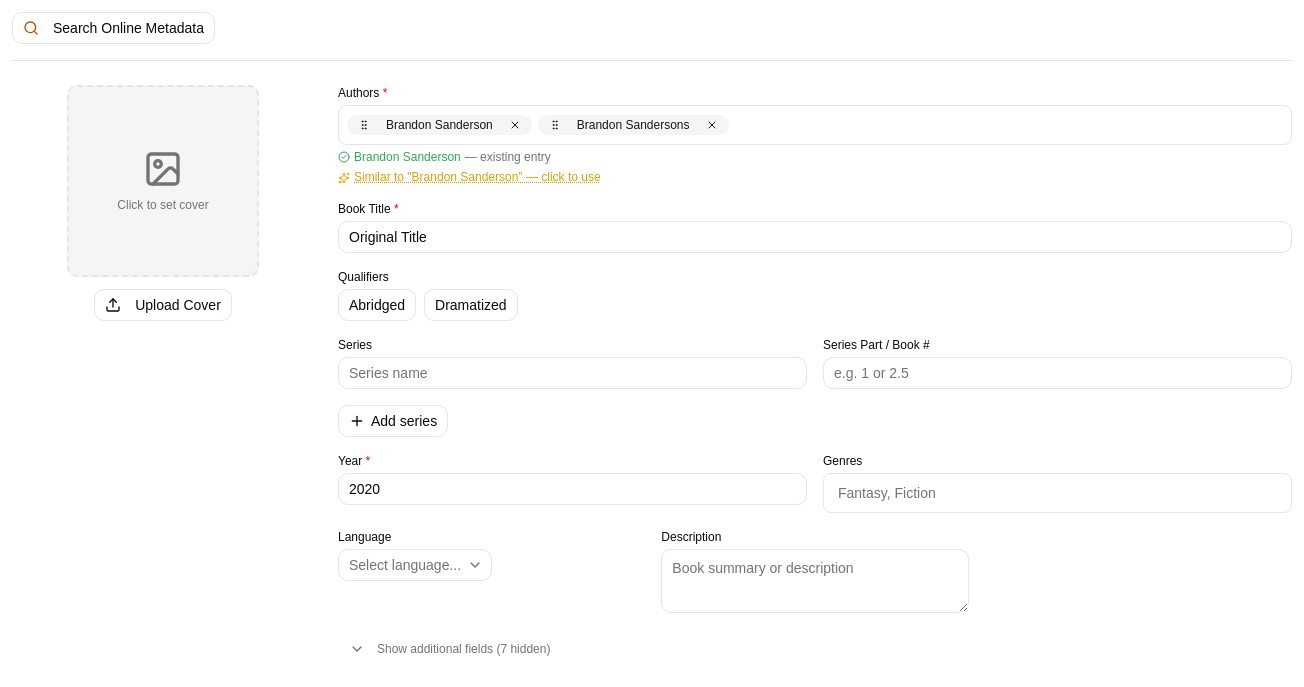
Test case: BookEditForm › clicking a hint merges into an existing exact-match entry instead of creating a duplicate
Click the button "Similar to \"Brandon Sanderson\" — click to use". click: (469, 177)
box: [338,169,601,185]
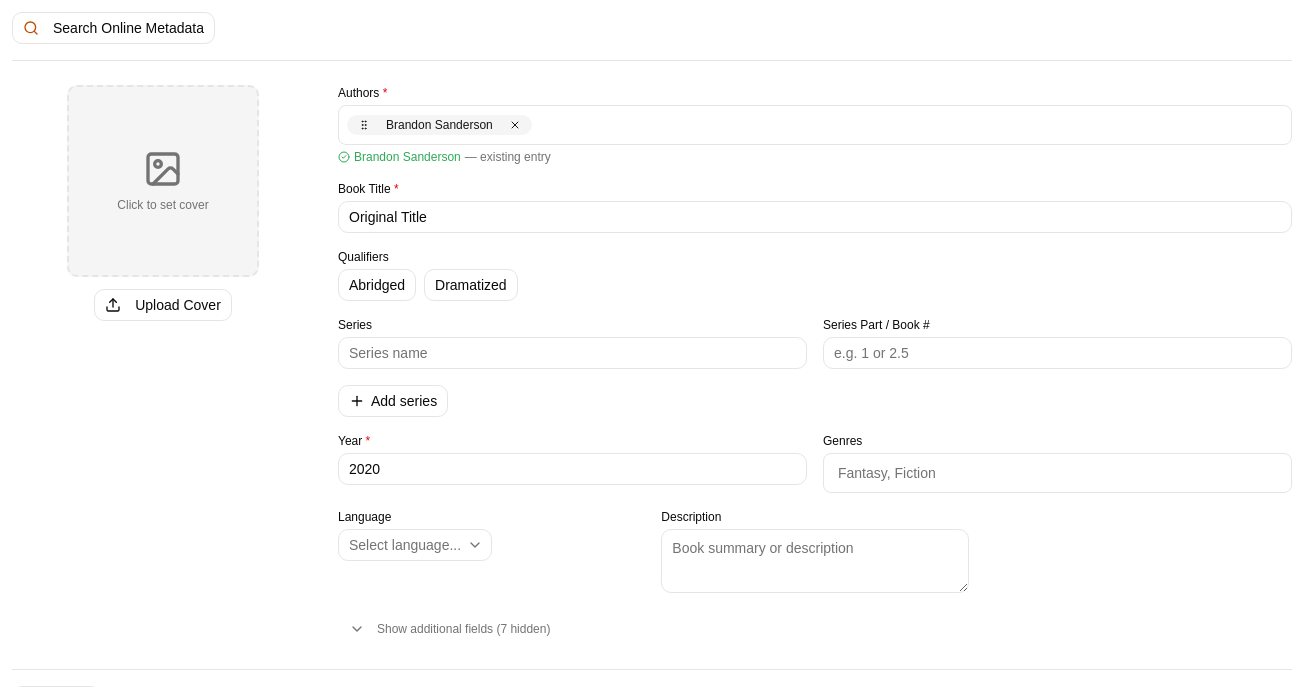
Result: the number of buttons named "Remove Brandon Sanderson" is 1 at [503,115,527,135]
Result: the button "Brandon Sandersons" is gone
Result: the button "Similar to \"Brandon Sanderson\" — click to use" is gone
